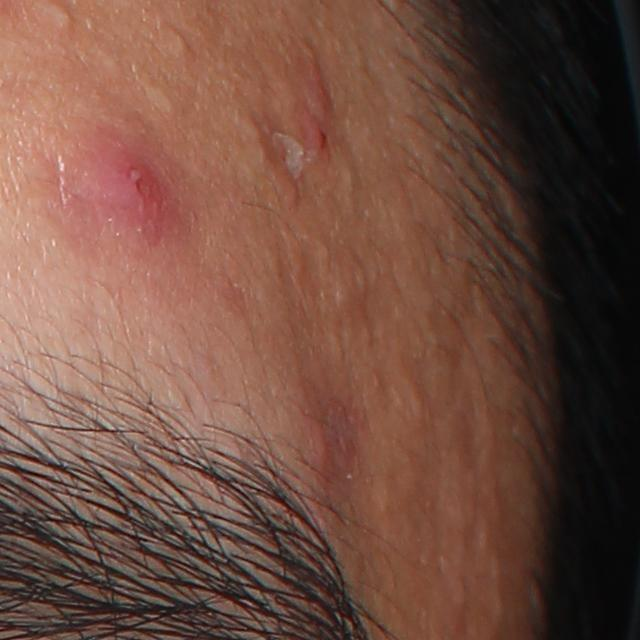comedo: (43, 2, 75, 40), (150, 87, 184, 121)
papule: (85, 127, 181, 244), (306, 420, 359, 488)
